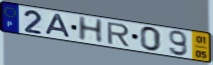0: (139, 26, 165, 53)
2: (21, 8, 46, 36)
9: (168, 29, 190, 57)
A: (44, 13, 72, 39)
H: (77, 15, 105, 44)
R: (106, 21, 131, 48)
